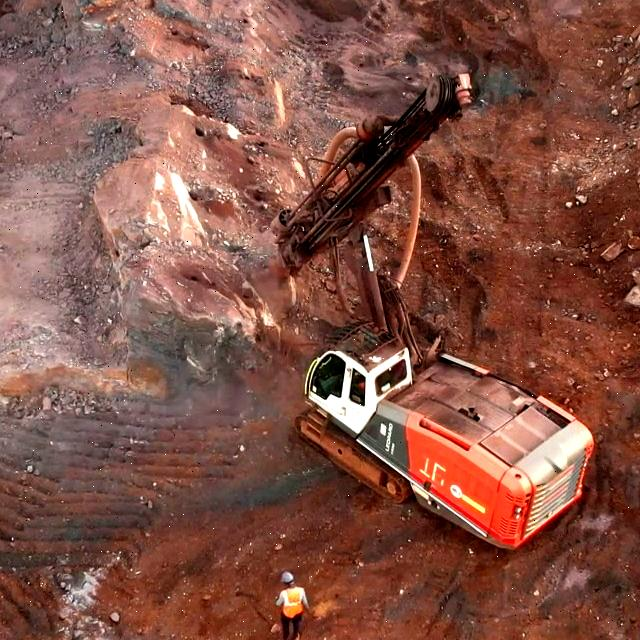Blast rig: (335, 361, 569, 492)
person: (273, 571, 312, 640)
